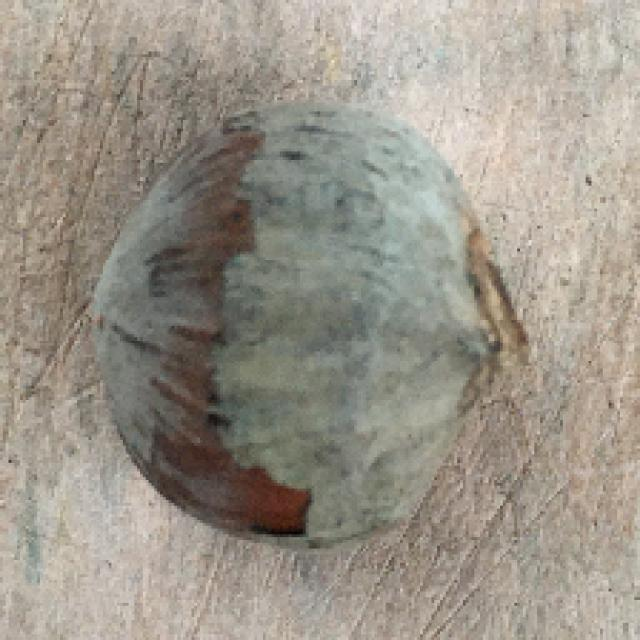damagedHazelnut: (88, 98, 525, 551)
